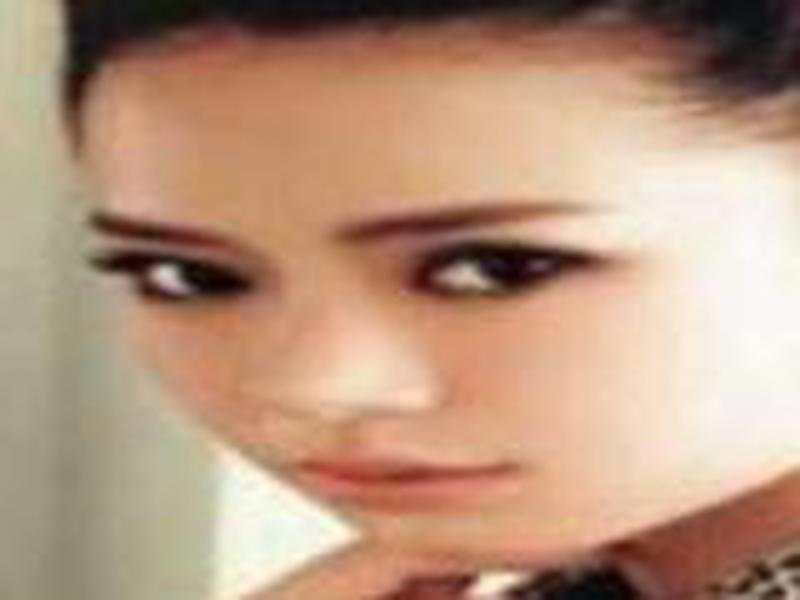without_mask: (78, 27, 761, 561)
